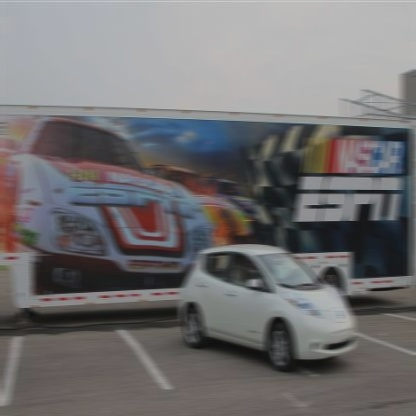Vehicle: (178, 242, 357, 374)
